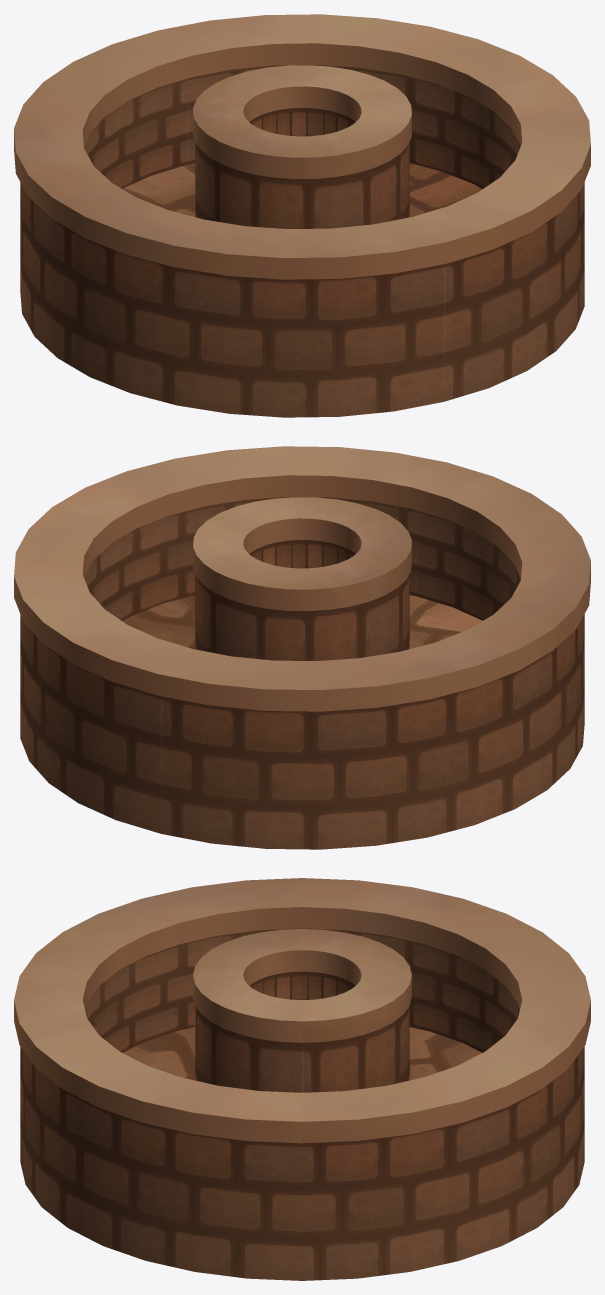
File: FountainHand.fbx
The picture shows the model from 3 angles, top to bottom: view 1: azimuth 30°, elevation 25°; view 2: azimuth 150°, elevation 25°; view 3: azimuth 270°, elevation 25°; orthographic projection.
Visible parts, largest first — view 1: FencePost; view 2: FencePost; view 3: FencePost.
Boxes of the visible parts, left/top/right/bottom form: FencePost: left=14, top=14, right=590, bottom=417; FencePost: left=14, top=446, right=590, bottom=849; FencePost: left=14, top=878, right=590, bottom=1280.
Size of the model in its own units: 1.45 by 0.5174 by 1.45.
